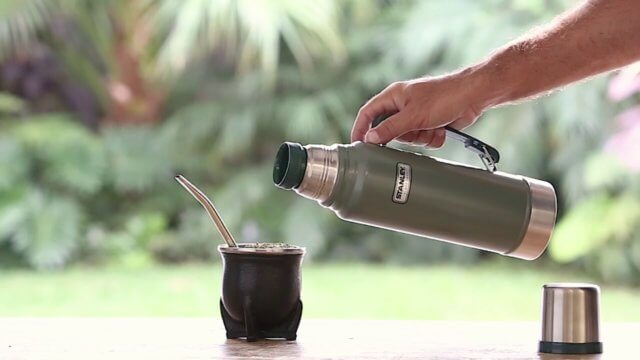calabaza: (179, 216, 328, 347)
mate: (181, 218, 330, 349)
